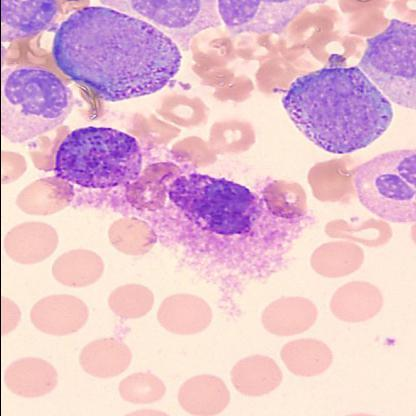Promyelocyte: (49, 5, 183, 103), (275, 68, 392, 154)
